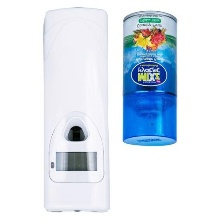aerosol_cans: (116, 5, 180, 152)
